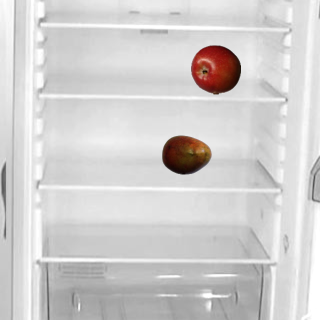Apple Braeburn: (190, 44, 240, 94)
Mango Red: (161, 129, 211, 179)
